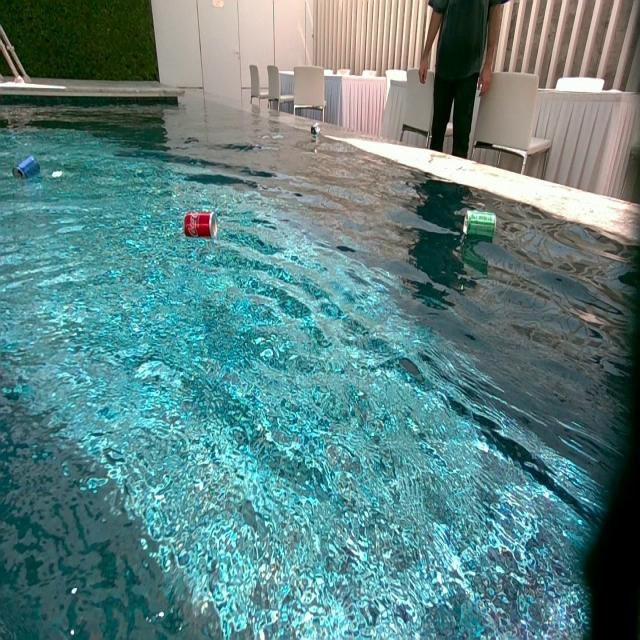Cans: (462, 209, 496, 242), (185, 212, 219, 241), (14, 157, 41, 182), (311, 125, 320, 136)
